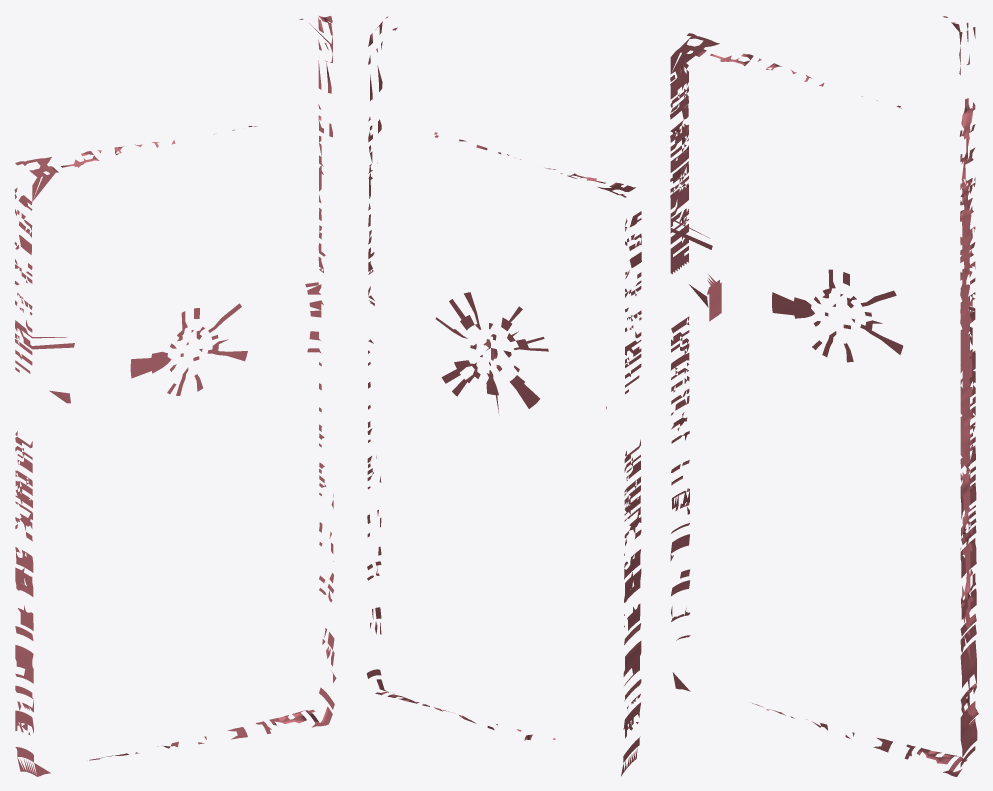
3 views of the same model, side by side, from view 1: azimuth 30°, elevation 25°; view 2: azimuth 150°, elevation 25°; view 3: azimuth 330°, elevation 25° (orthographic). The views are drawn at different scales.
Size of the model in its own units: 9.28 by 21.66 by 1.75.
